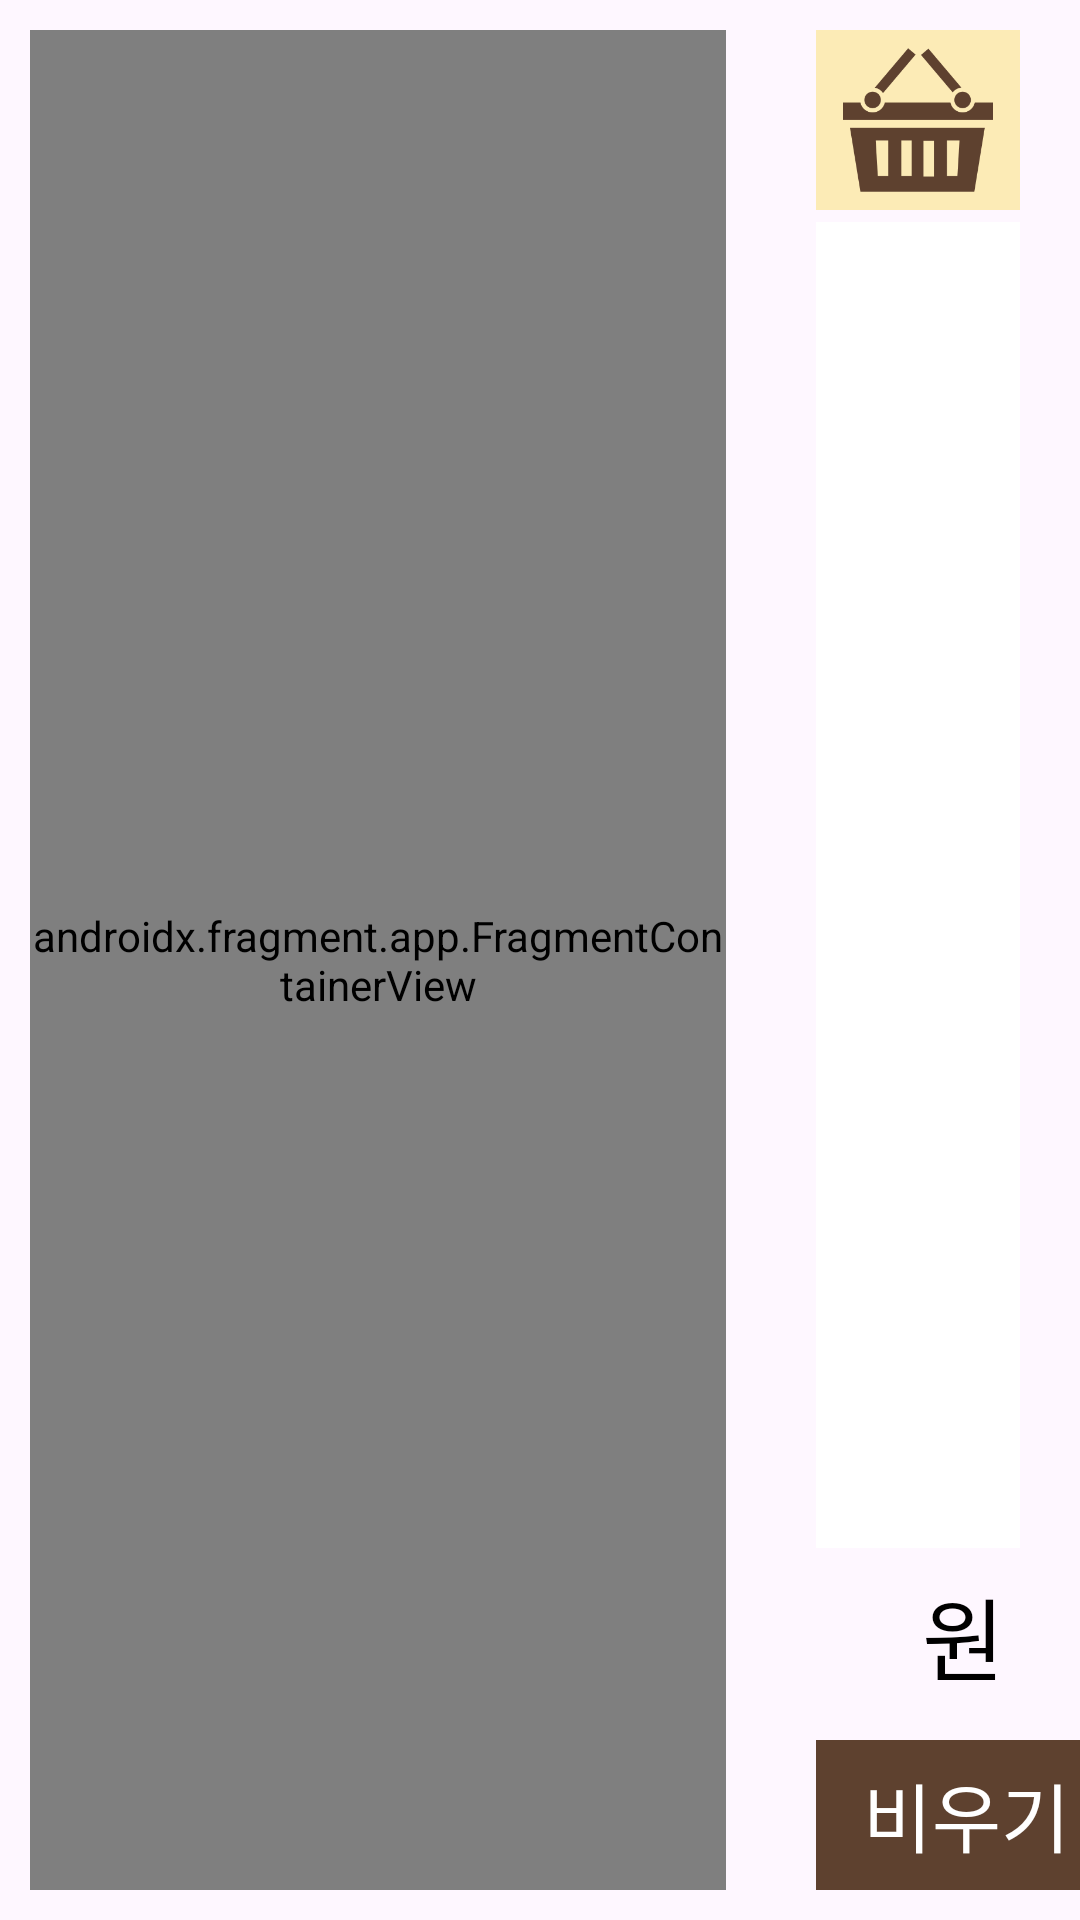

Point at icon controls on the screen. Image size 1080 × 1920, points as [x,y].
basket: [918,120]
